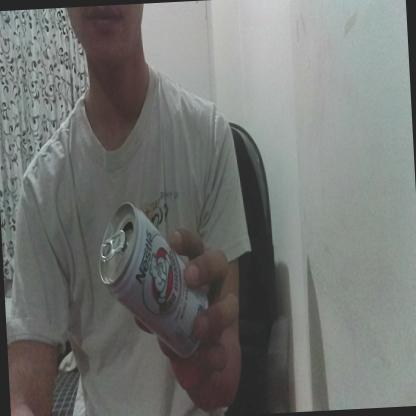alumunium_can: (96, 198, 214, 368)
